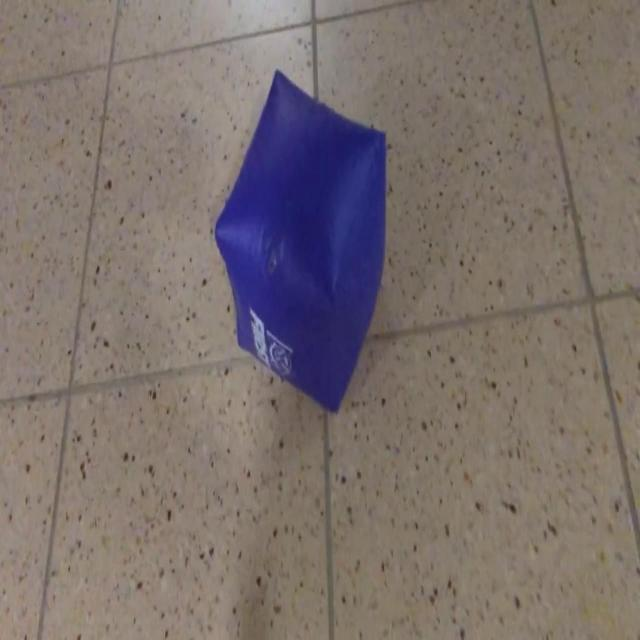frc_cube: (215, 68, 388, 410)
